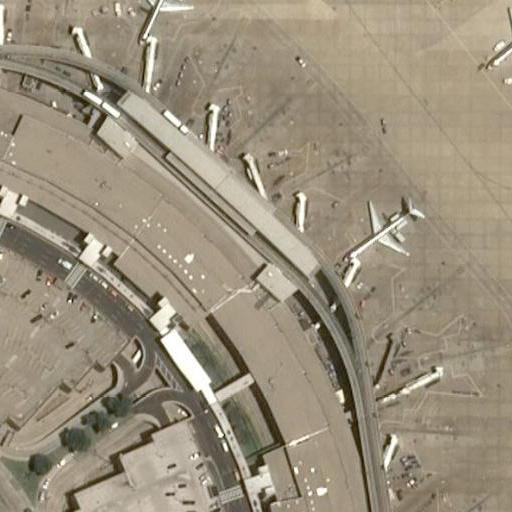Aircraft: (345, 182, 434, 269), (122, 0, 197, 42), (474, 0, 512, 76)
